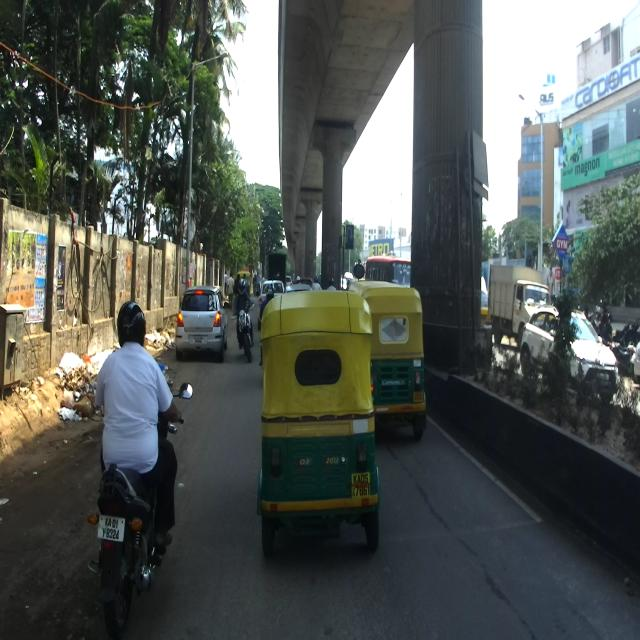auto ahead at: (263, 293, 381, 532)
car ahead at: (177, 291, 223, 351)
motorcycle ahead at: (90, 460, 160, 623)
